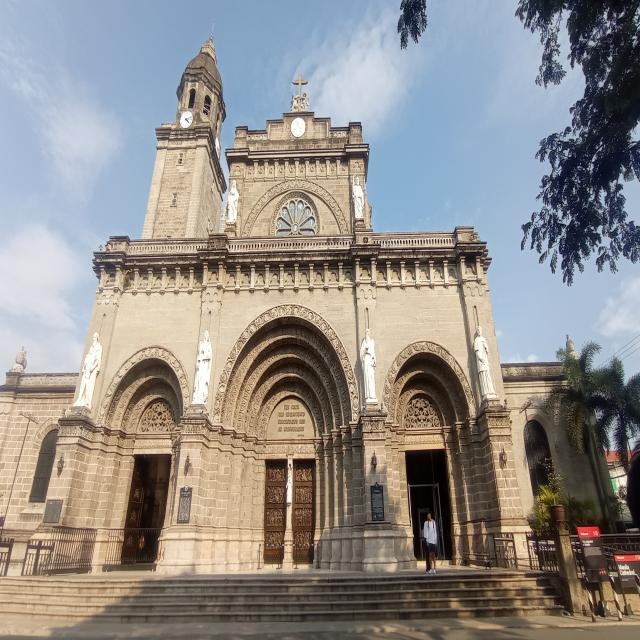Manila Cathedral: (0, 16, 640, 640)
